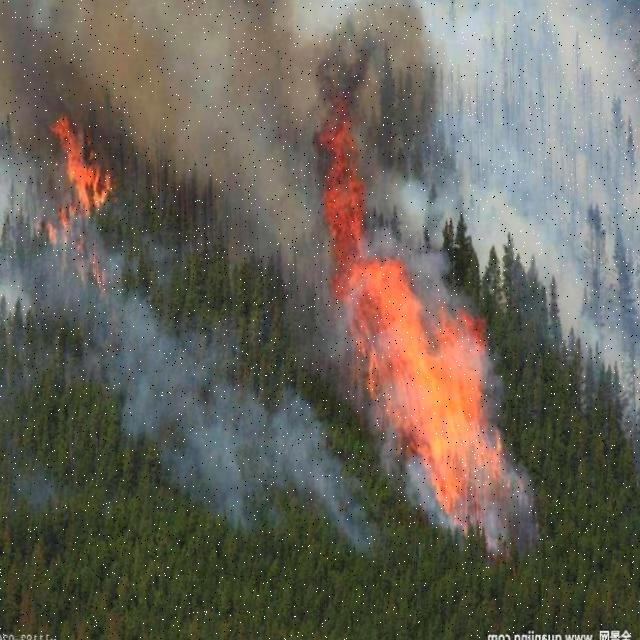fire: (399, 342, 482, 510), (361, 285, 434, 357)
